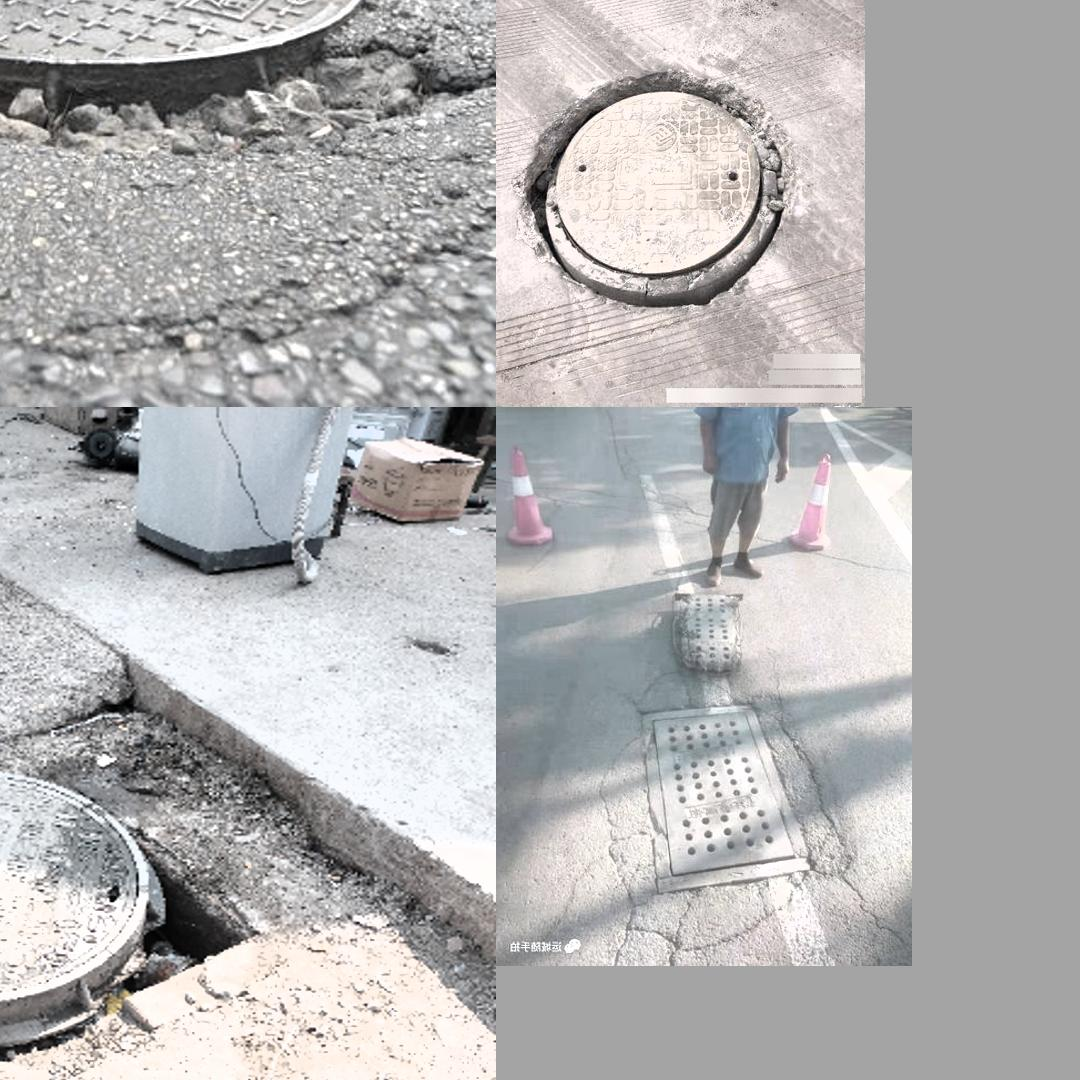circle: (0, 0, 465, 175), (590, 682, 857, 945), (0, 751, 221, 1059), (527, 72, 790, 312)
